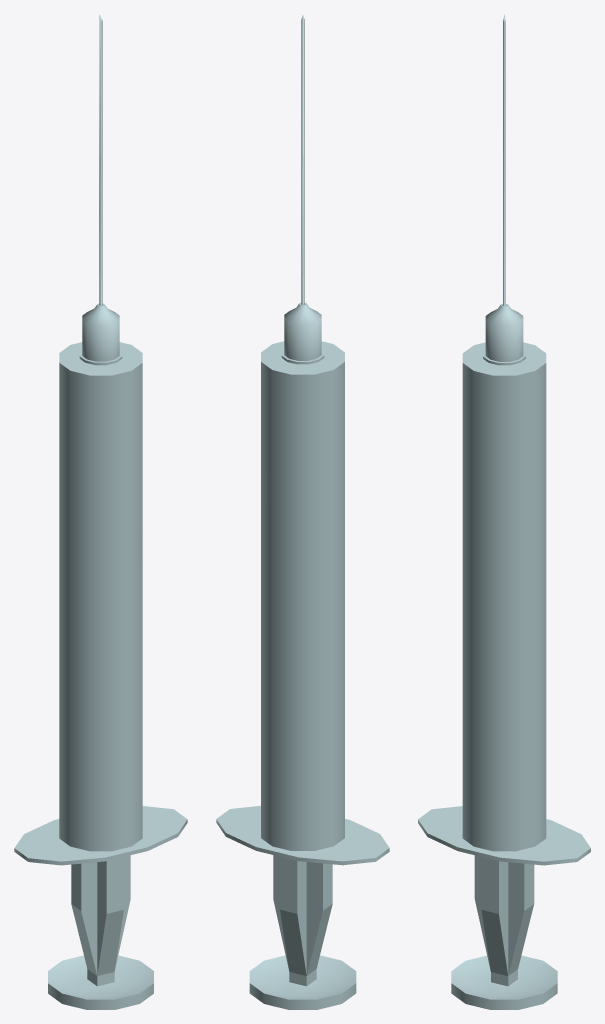
Rendered from Needle.fbx.
3 renders of one model, left to right at view 1: azimuth 30°, elevation 25°; view 2: azimuth 150°, elevation 25°; view 3: azimuth 330°, elevation 25°, orthographic.
Visible parts, largest first — view 1: Syringe; view 2: Syringe; view 3: Syringe.
Part boxes in pixels (bbox=[...]): Syringe: bbox=[14, 14, 187, 1009]; Syringe: bbox=[216, 15, 389, 1009]; Syringe: bbox=[418, 14, 590, 1009].
Bounding box in the file's own units: 6.92 × 40.36 × 3.99.
